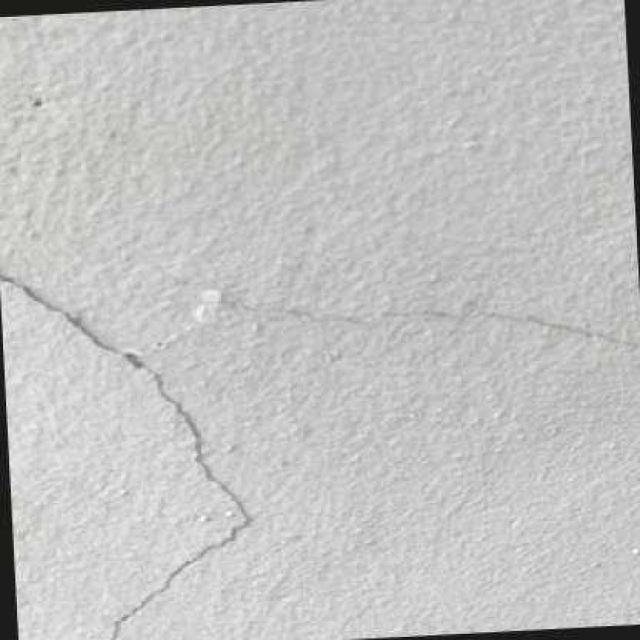D00: (0, 268, 256, 640)
